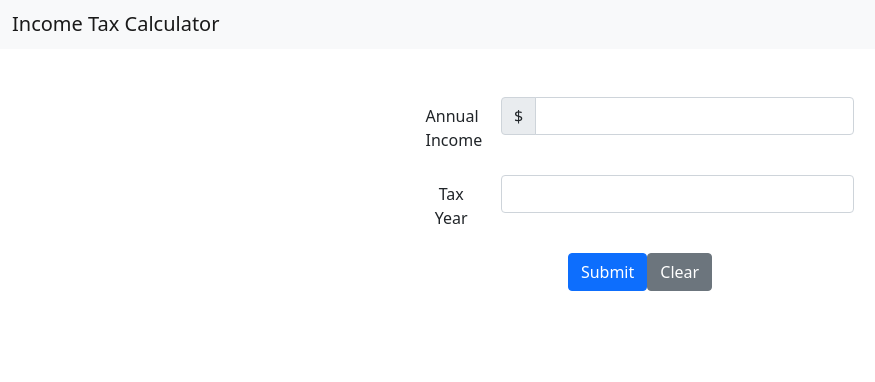
Scenario: Testing Dashboard › Invalid input scenarios › Empty year field
Type "20,000" into the field with id "income".
click(695, 116); type("20,000")  # box 535,97 -> 854,135
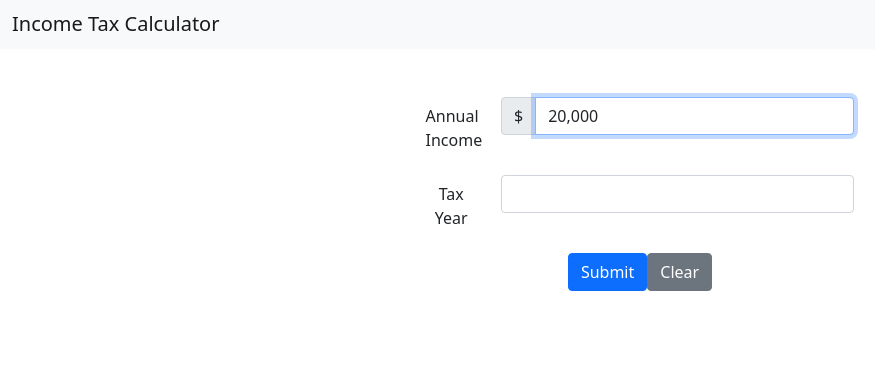
Click the button with id "submit".
click(608, 272)  # box 568,253 -> 647,291
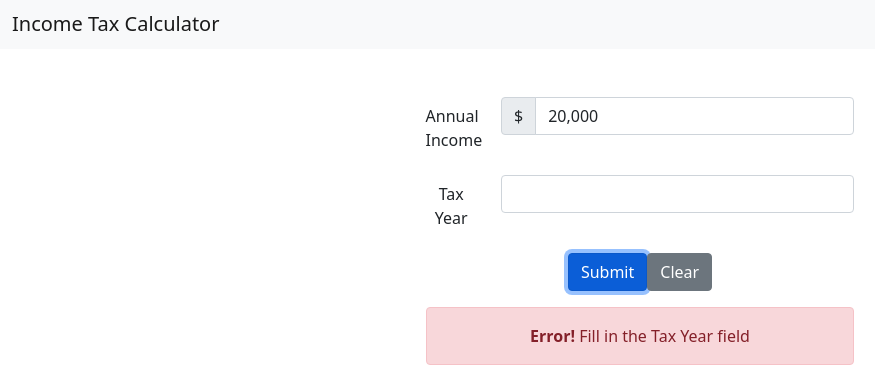
Result: the text "Fill in the Tax Year field" is shown at 579,325 -> 750,347
